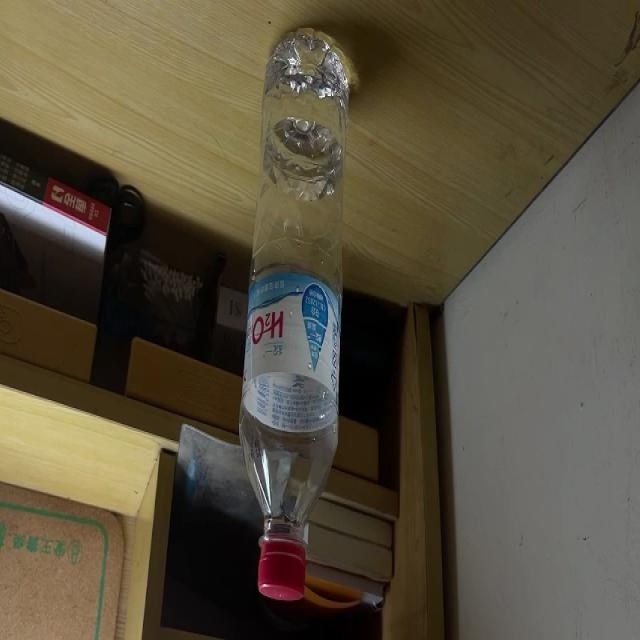Water: (239, 25, 347, 600)
